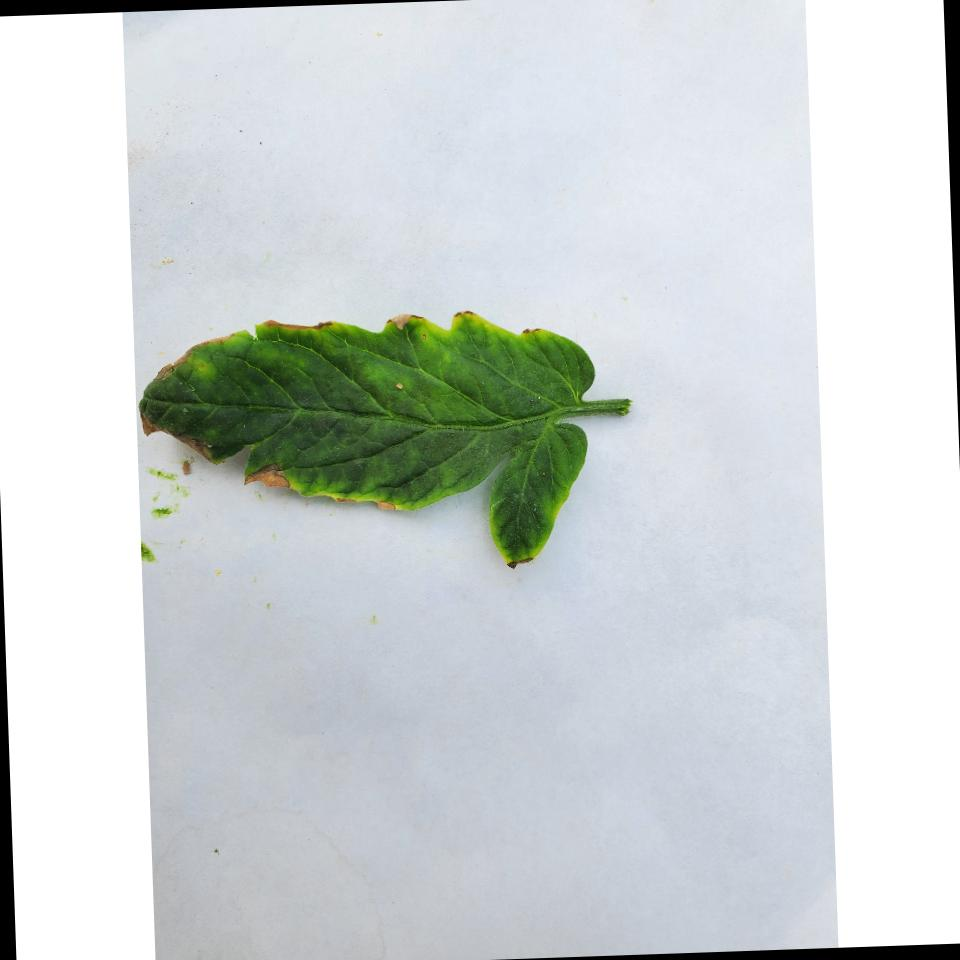tomato_bacterial_blight: (144, 299, 638, 585)
